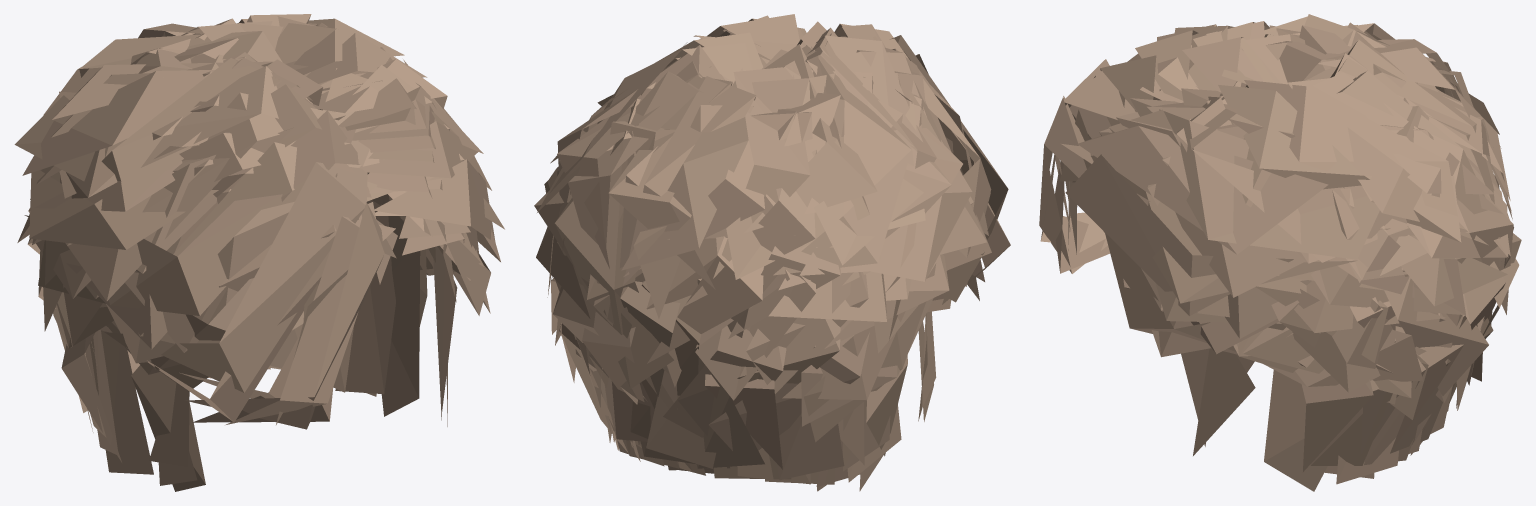
Rendered from male_hair_09_lod2.glb.
3 views of the same model, side by side, from view 1: azimuth 30°, elevation 25°; view 2: azimuth 150°, elevation 25°; view 3: azimuth 270°, elevation 25° (orthographic). The views are drawn at different scales.
Visible parts, largest first — view 1: hair_09; view 2: hair_09; view 3: hair_09.
Boxes of the visible parts, x1,y1,x2,y2 form: hair_09: (14, 14, 504, 491); hair_09: (534, 14, 1010, 491); hair_09: (1039, 14, 1521, 491).
Size of the model in its own units: 0.1946 by 0.1964 by 0.2185.
